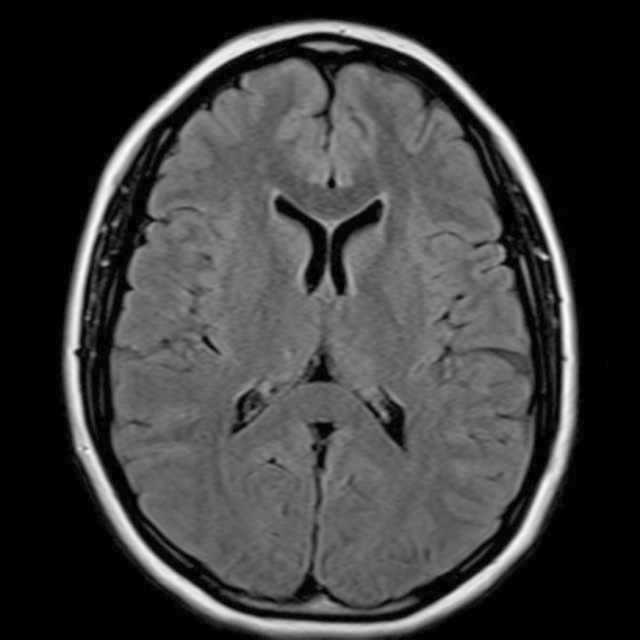glioma tumor: (189, 92, 466, 560)
